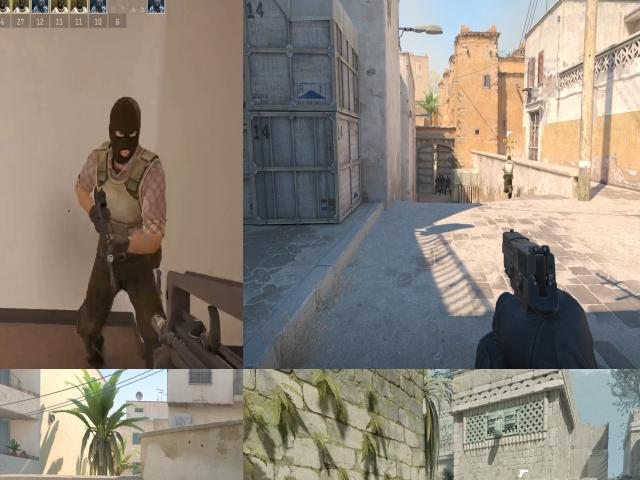CT: (435, 175, 440, 195), (445, 175, 450, 195), (438, 173, 442, 193), (442, 175, 446, 193)
CT-Head: (435, 175, 439, 179), (439, 174, 442, 178), (447, 175, 449, 179), (443, 175, 445, 178)
T: (82, 91, 166, 369), (502, 156, 515, 198)
T-Head: (105, 87, 150, 164), (507, 153, 512, 161)
